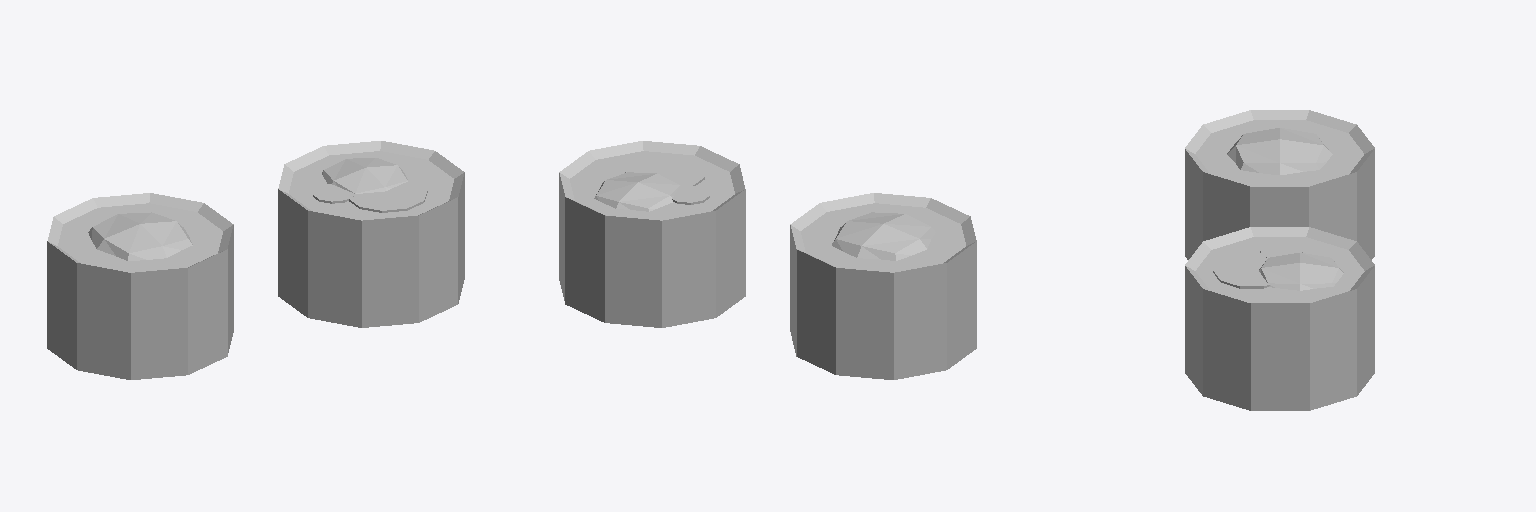
File: Sushi.obj
The picture shows the model from 3 angles: view 1: azimuth 30°, elevation 25°; view 2: azimuth 150°, elevation 25°; view 3: azimuth 270°, elevation 25°; orthographic projection.
Parts seen in each view (by area): view 1: Sushi.001, Sushi; view 2: Sushi, Sushi.001; view 3: Sushi.001, Sushi.
Boxes of the visible parts, <box> form: Sushi.001: <box>278,141,464,327</box>; Sushi: <box>47,193,233,379</box>; Sushi: <box>790,193,976,379</box>; Sushi.001: <box>559,141,745,327</box>; Sushi.001: <box>1185,227,1374,410</box>; Sushi: <box>1185,110,1374,259</box>.
Size of the model in its own units: 5.29 by 1.57 by 2.25.